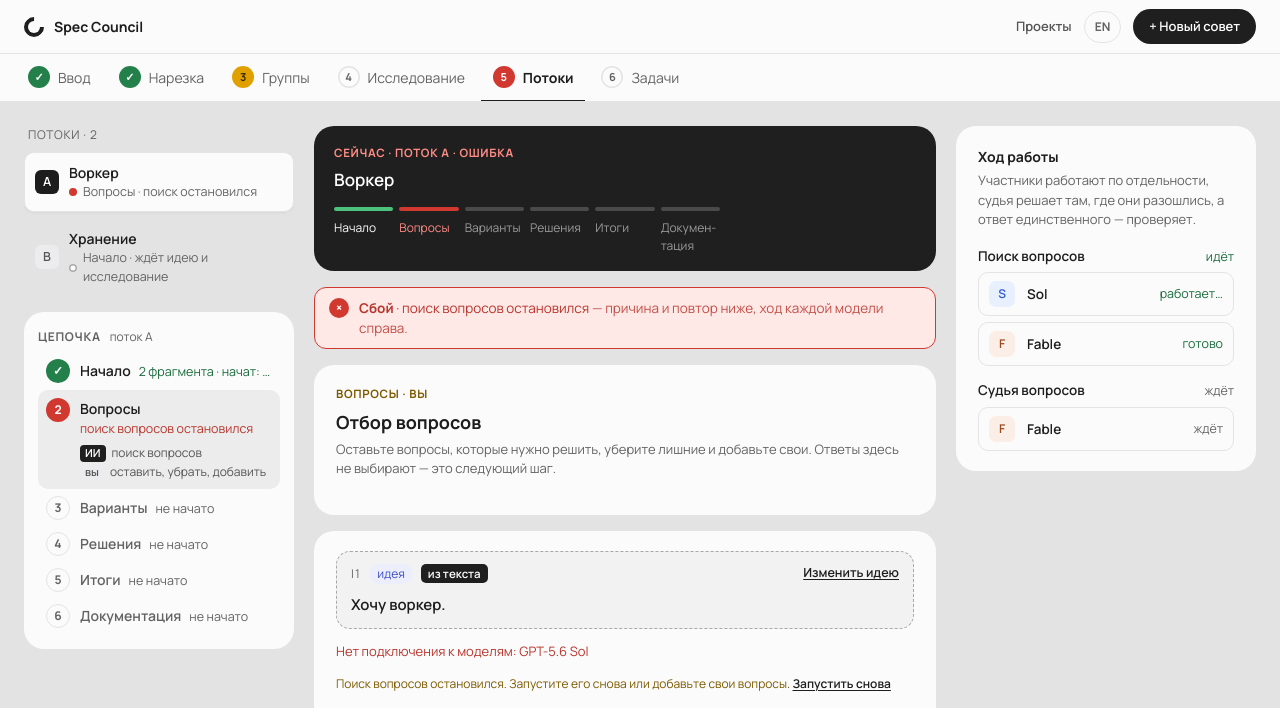
it: Поток: начало и вопросы › повтор поиска, которому сервер отказал не потому, что он уже идёт, — отказ виден
This screenshot has width=1280, height=708.
Click the button "Запустить снова" at [842, 684], box [792,674,891,692]
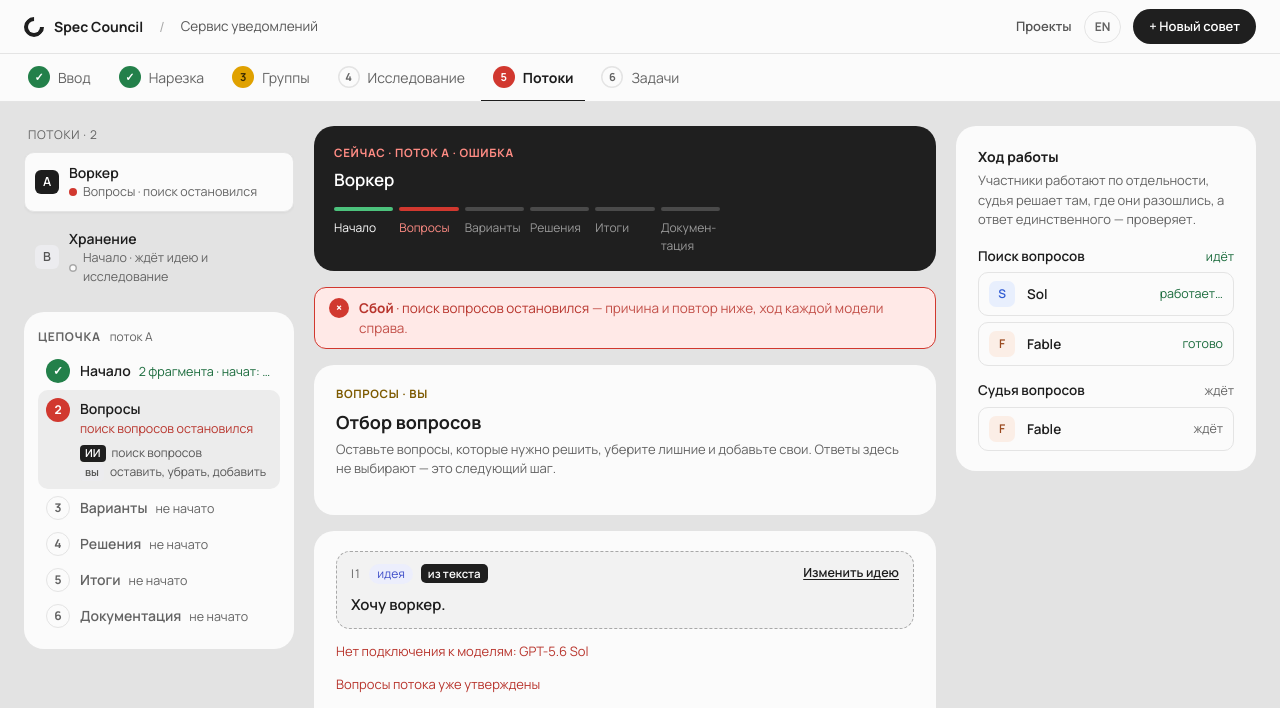
Check: the text "Вопросы потока уже утверждены" is shown, box [336,674,540,692]
